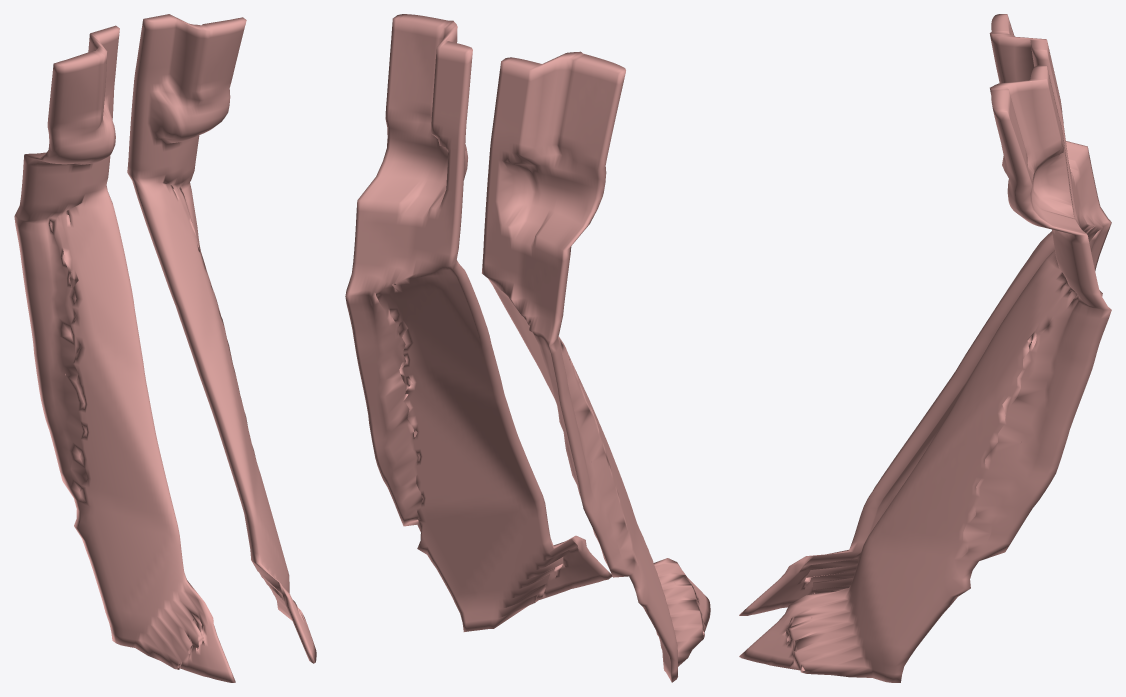
Rendered from procerus.glb.
3 renders of one model, left to right at view 1: azimuth 30°, elevation 25°; view 2: azimuth 150°, elevation 25°; view 3: azimuth 270°, elevation 25°, orthographic. The views are drawn at different scales.
Parts seen in each view (by area): view 1: procerus_R, procerus_L; view 2: procerus_L, procerus_R; view 3: procerus_L, procerus_R.
Boxes of the visible parts, <box> form: procerus_R: <box>14,25,235,682</box>; procerus_L: <box>127,14,316,663</box>; procerus_L: <box>345,14,612,631</box>; procerus_R: <box>482,51,710,682</box>; procerus_L: <box>739,65,1111,682</box>; procerus_R: <box>739,14,1111,615</box>.
Bounding box in the file's own units: 0.014 × 0.0387 × 0.0225.
